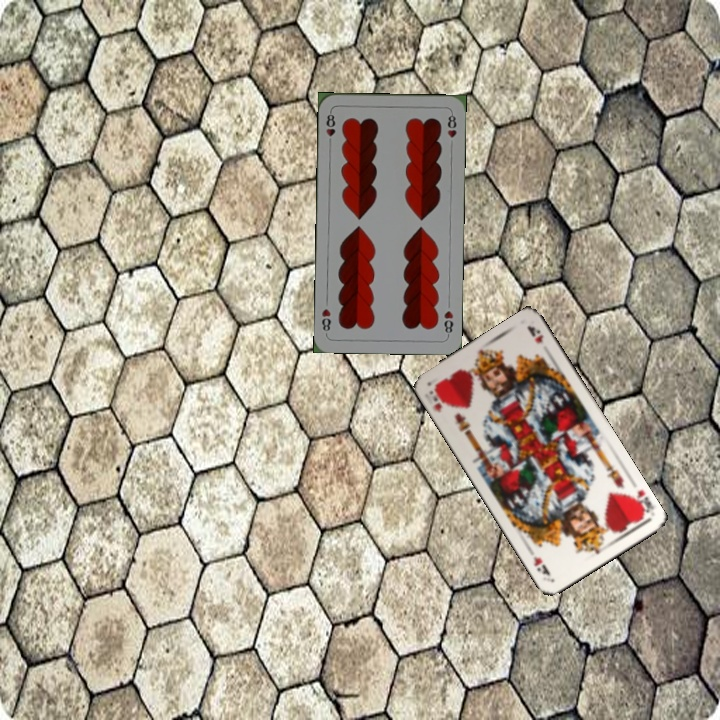H8: (322, 107, 338, 148), (440, 307, 456, 339)
HK: (625, 486, 657, 520), (428, 382, 451, 415)
